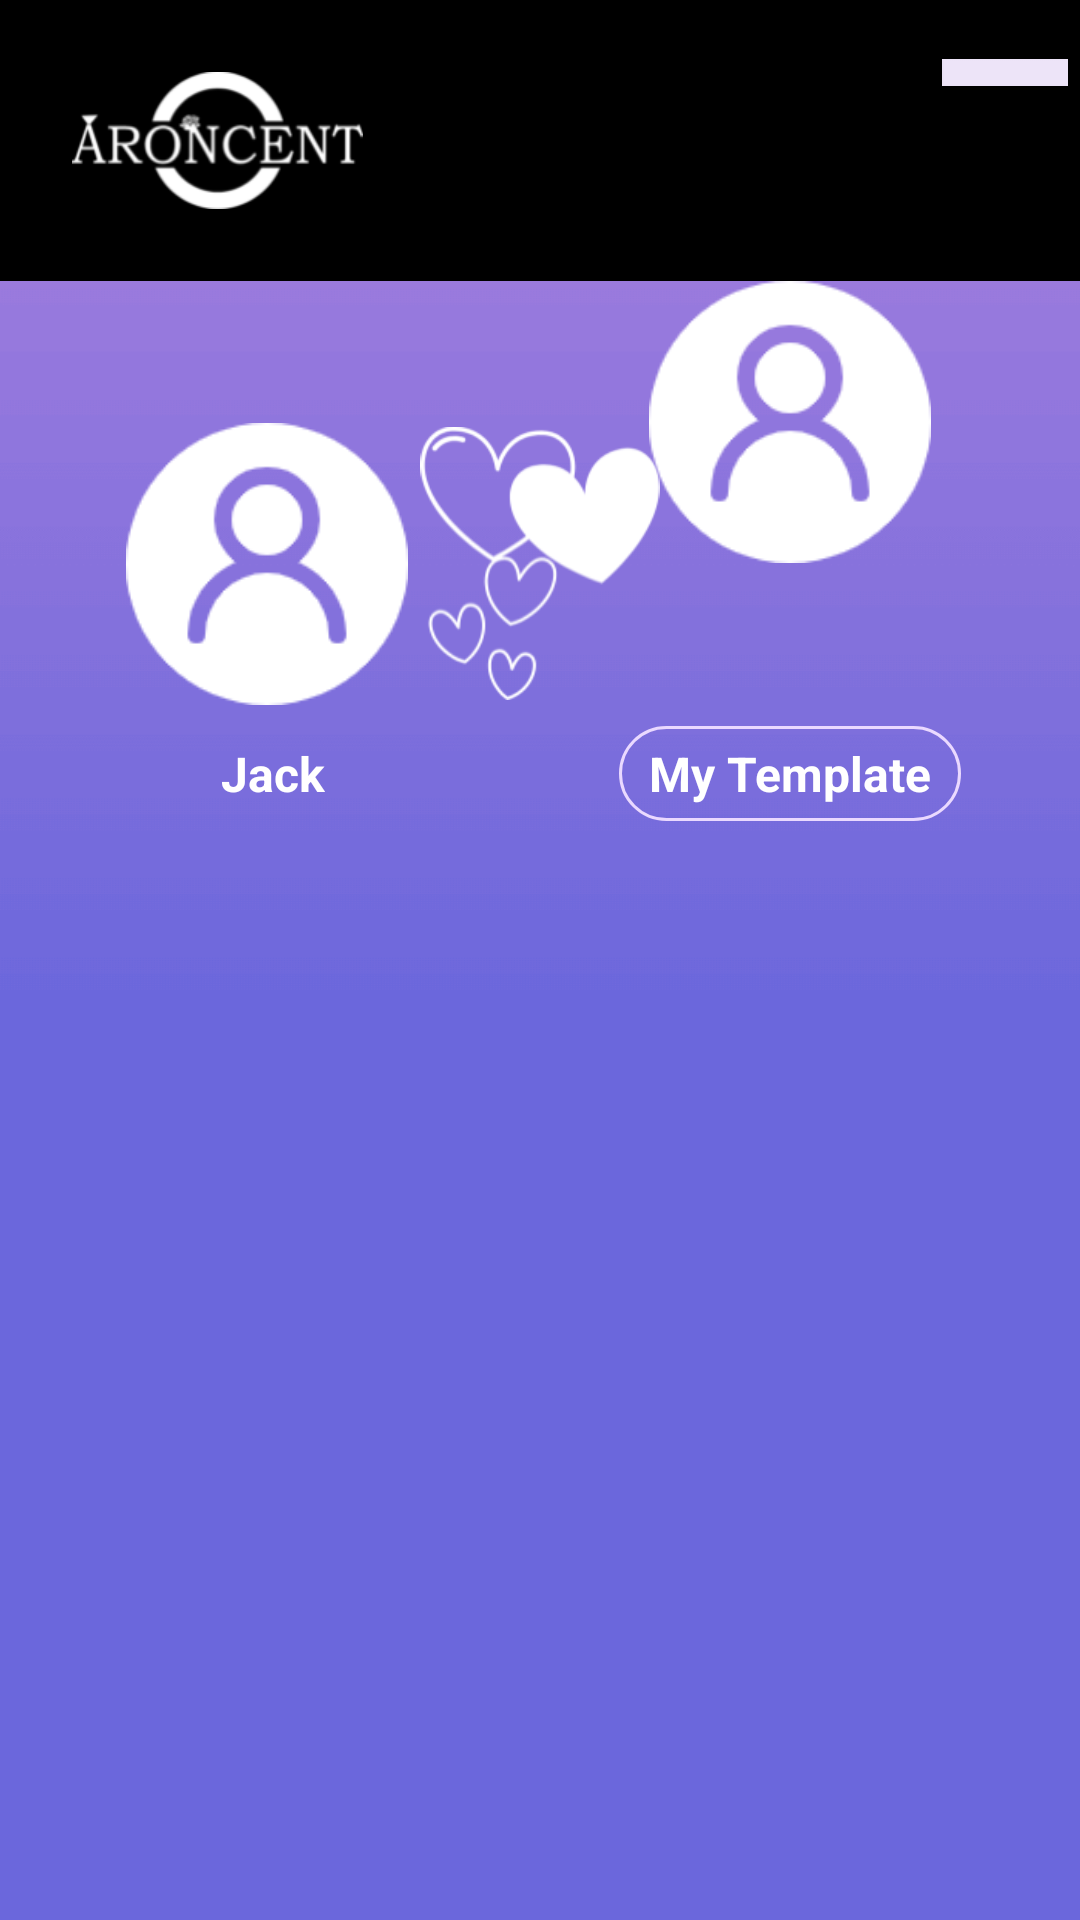

Point at icon controls on the screen. Image size 1080 × 1920, points as [x,y].
head pic: [790,422], [267,564]
heart: [540,563]
